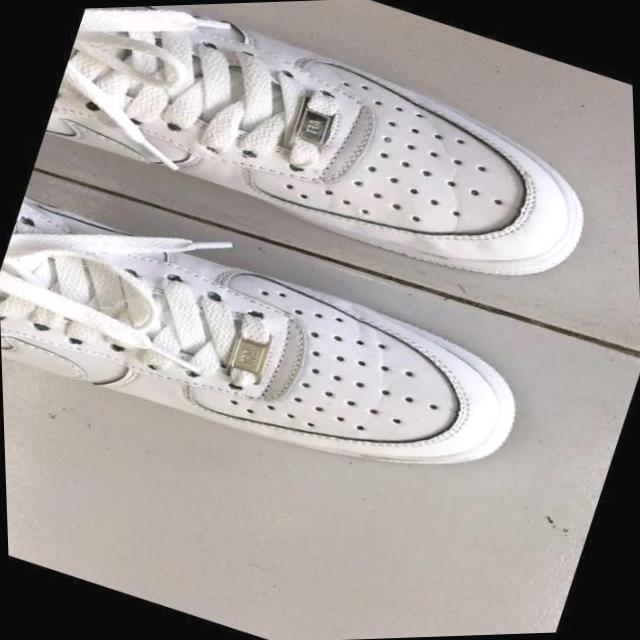nike_fake_airforce: (0, 167, 552, 536), (37, 0, 622, 333)
